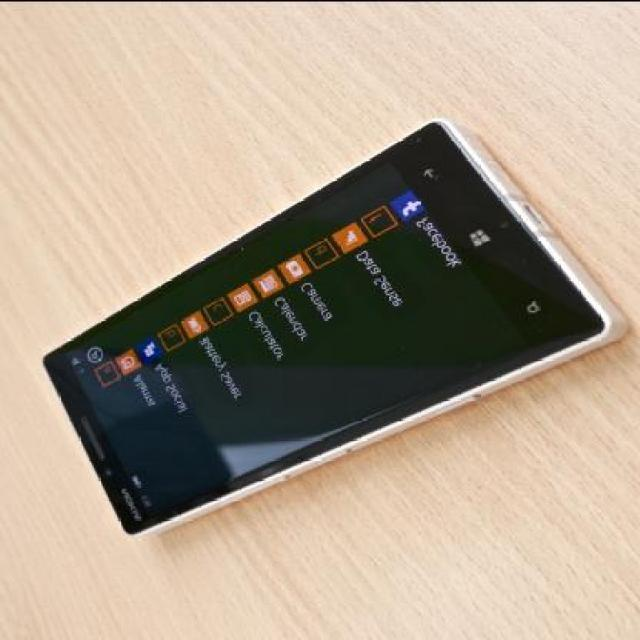phone: (44, 116, 640, 543)
